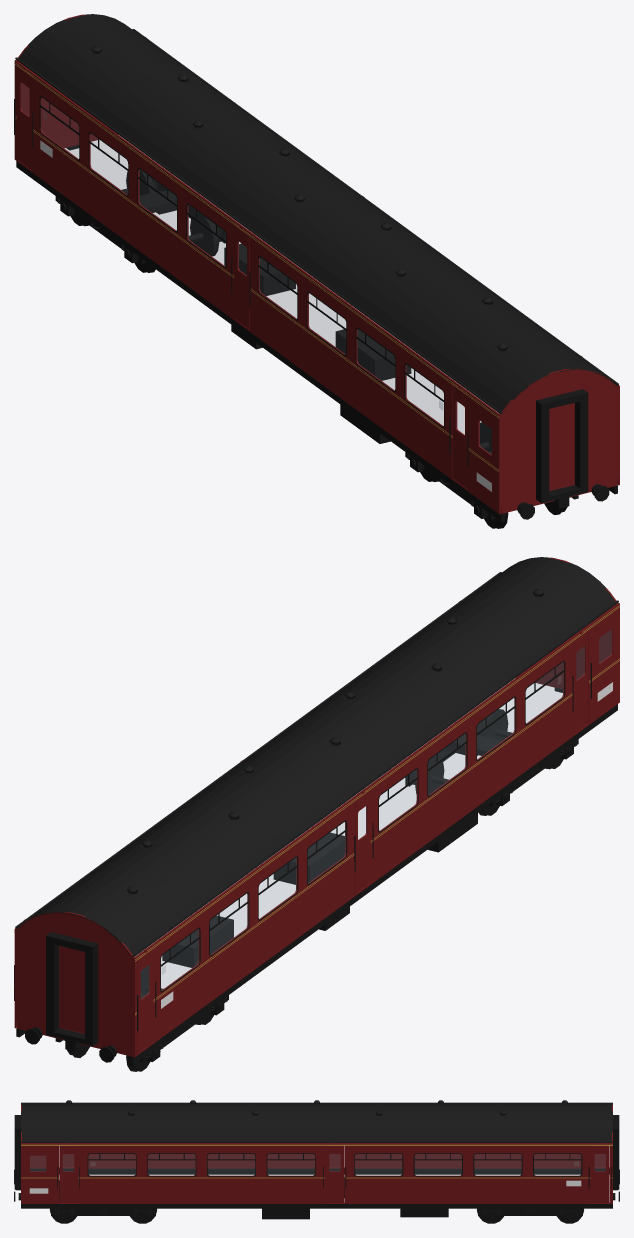
File: coach_tso2_lod1.glb
The picture shows the model from 3 angles, top to bottom: view 1: azimuth 30°, elevation 25°; view 2: azimuth 150°, elevation 25°; view 3: azimuth 270°, elevation 25°; orthographic projection. The views are drawn at different scales.
Parts seen in each view (by area): view 1: coach_static_roof_black, coach_static_coach_maroon, coach_static_underframe, coach_static_glass, coach_static_lining_gold, gw_door_A_coach_maroon; view 2: coach_static_roof_black, coach_static_coach_maroon, coach_static_underframe, coach_static_glass, coach_static_lining_gold, gw_door_B_coach_maroon; view 3: coach_static_coach_maroon, coach_static_roof_black, coach_static_underframe, coach_static_glass, coach_static_lining_gold.
Part boxes in pixels (box(x1,y1,x2,y2)): coach_static_roof_black: box(15, 14, 618, 413); coach_static_coach_maroon: box(14, 14, 619, 514); coach_static_underframe: box(14, 96, 617, 528); coach_static_glass: box(21, 83, 491, 454); coach_static_lining_gold: box(14, 62, 499, 472); gw_door_A_coach_maroon: box(549, 403, 574, 490); coach_static_roof_black: box(15, 557, 618, 956); coach_static_coach_maroon: box(14, 557, 619, 1057); coach_static_underframe: box(14, 660, 617, 1071); coach_static_glass: box(141, 629, 611, 998); coach_static_lining_gold: box(14, 605, 619, 1015); gw_door_B_coach_maroon: box(59, 946, 84, 1033); coach_static_coach_maroon: box(21, 1105, 612, 1203); coach_static_roof_black: box(21, 1100, 612, 1142); coach_static_underframe: box(14, 1115, 619, 1223); coach_static_glass: box(30, 1154, 605, 1175); coach_static_lining_gold: box(21, 1144, 612, 1178).
Size of the model in its own units: 2.9 by 3.98 by 20.12.
